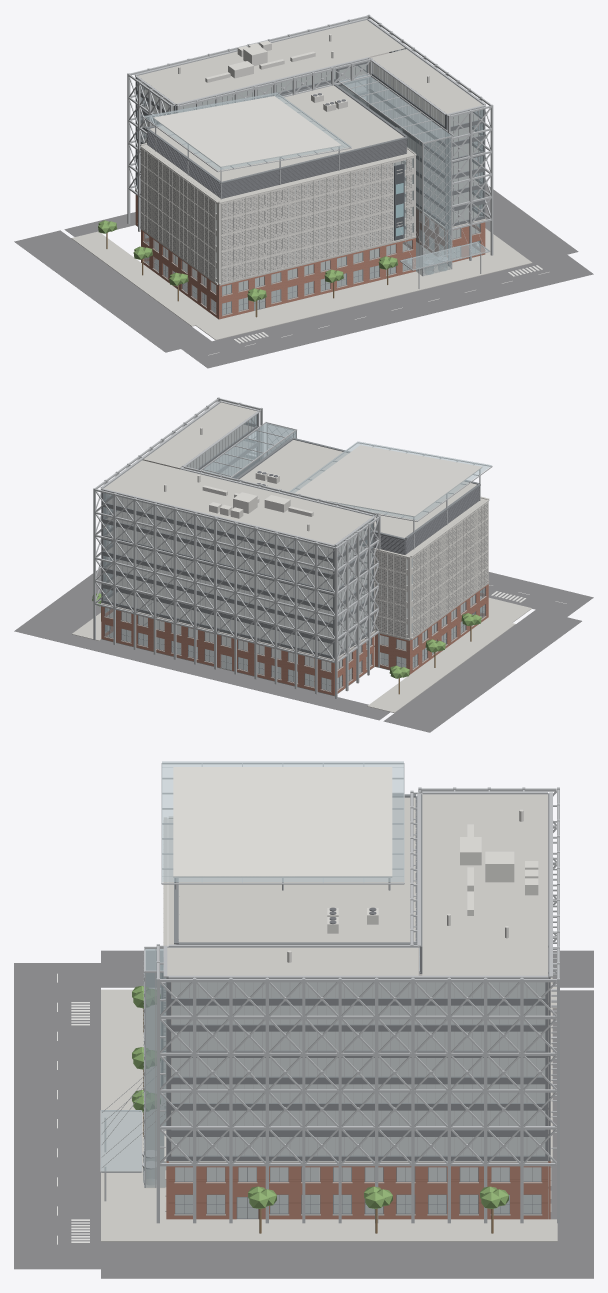
File: clay-braced-frame-hospital-clay-v003.glb
3 views of the same model, one above another, from view 1: azimuth 30°, elevation 25°; view 2: azimuth 150°, elevation 25°; view 3: azimuth 270°, elevation 25° (orthographic). The views are drawn at different scales.
Visible parts, largest first — view 1: CLAY_PALE, CLAY_ASPHALT, CLAY_GLASS, CLAY_MEMBRANE, CLAY_STEEL, CLAY_CONCRETE, CLAY_PERF, CLAY_TRIM, CLAY_FLOOR, CLAY_WALL, CLAY_HARDWARE, CLAY_LOUVRE (+4 smaller); view 2: CLAY_STEEL, CLAY_GLASS, CLAY_PALE, CLAY_FLOOR, CLAY_ASPHALT, CLAY_MEMBRANE, CLAY_TRIM, CLAY_WALL, CLAY_CONCRETE, CLAY_PERF, CLAY_FOUNDATION, CLAY_HARDWARE (+3 smaller); view 3: CLAY_ASPHALT, CLAY_GLASS, CLAY_STEEL, CLAY_MEMBRANE, CLAY_FLOOR, CLAY_PALE, CLAY_CONCRETE, CLAY_TRIM, CLAY_WALL, CLAY_FOUNDATION, CLAY_PLANTING, CLAY_STONE (+1 smaller).
Boxes of the visible parts, bbox=[...] form: CLAY_PALE: bbox=[140, 34, 429, 283]; CLAY_ASPHALT: bbox=[14, 184, 593, 368]; CLAY_GLASS: bbox=[137, 48, 489, 314]; CLAY_MEMBRANE: bbox=[138, 20, 482, 201]; CLAY_STEEL: bbox=[127, 14, 493, 288]; CLAY_CONCRETE: bbox=[71, 127, 532, 340]; CLAY_PERF: bbox=[141, 149, 411, 282]; CLAY_TRIM: bbox=[135, 19, 485, 315]; CLAY_FLOOR: bbox=[141, 52, 479, 294]; CLAY_WALL: bbox=[135, 195, 485, 319]; CLAY_HARDWARE: bbox=[143, 93, 406, 266]; CLAY_LOUVRE: bbox=[147, 85, 406, 198]; CLAY_STEEL: bbox=[93, 397, 492, 698]; CLAY_GLASS: bbox=[103, 415, 491, 690]; CLAY_PALE: bbox=[164, 427, 488, 638]; CLAY_FLOOR: bbox=[106, 424, 482, 670]; CLAY_ASPHALT: bbox=[14, 568, 593, 732]; CLAY_MEMBRANE: bbox=[104, 402, 485, 556]; CLAY_TRIM: bbox=[101, 402, 485, 691]; CLAY_WALL: bbox=[101, 581, 488, 695]; CLAY_CONCRETE: bbox=[72, 496, 531, 712]; CLAY_PERF: bbox=[376, 504, 487, 636]; CLAY_FOUNDATION: bbox=[101, 614, 482, 696]; CLAY_HARDWARE: bbox=[257, 471, 485, 616]; CLAY_ASPHALT: bbox=[14, 950, 593, 1278]; CLAY_GLASS: bbox=[101, 761, 545, 1218]; CLAY_STEEL: bbox=[100, 762, 559, 1223]; CLAY_MEMBRANE: bbox=[167, 794, 547, 976]; CLAY_FLOOR: bbox=[171, 794, 548, 1188]; CLAY_PALE: bbox=[163, 767, 538, 973]; CLAY_CONCRETE: bbox=[101, 816, 557, 1241]; CLAY_TRIM: bbox=[166, 793, 550, 1218]; CLAY_WALL: bbox=[166, 1161, 550, 1219]; CLAY_FOUNDATION: bbox=[175, 1189, 548, 1219]; CLAY_PLANTING: bbox=[132, 986, 508, 1208]; CLAY_STONE: bbox=[165, 1166, 551, 1215].
Size of the model in its own units: 107 by 39.8 by 80.
